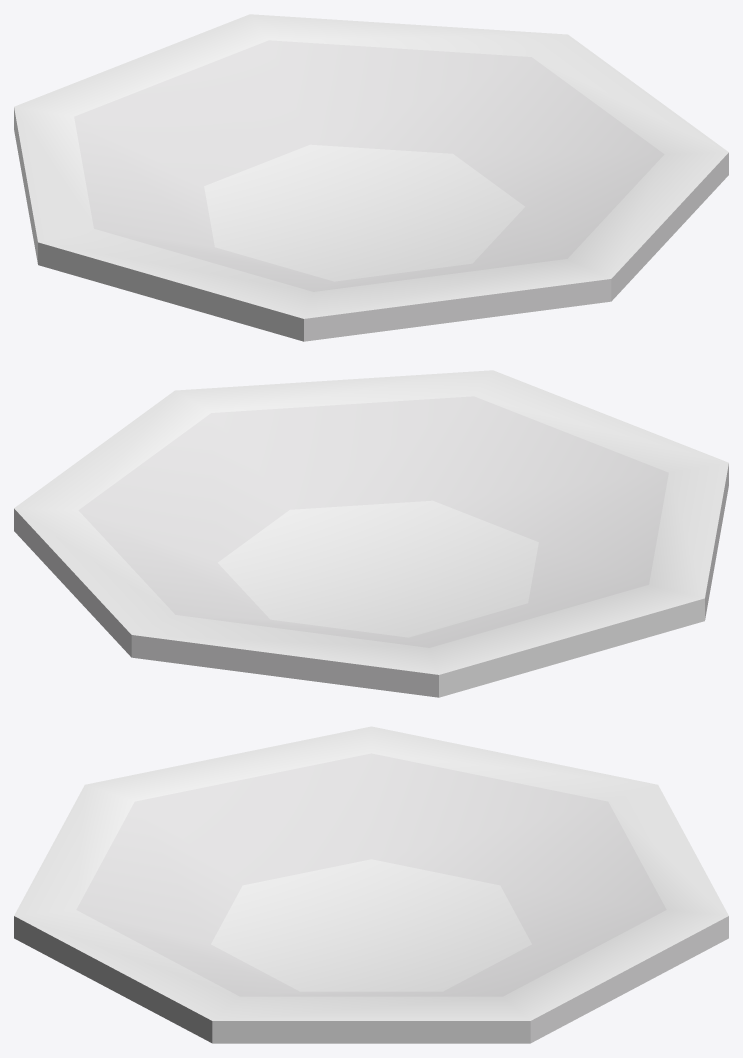
The model's file is Plate.fbx.
The picture shows the model from 3 angles, top to bottom: view 1: azimuth 30°, elevation 25°; view 2: azimuth 150°, elevation 25°; view 3: azimuth 270°, elevation 25°; orthographic projection.
Visible parts, largest first — view 1: Plate; view 2: Plate; view 3: Plate.
Boxes of the visible parts, x1,y1,x2,y2 form: Plate: (14, 14, 728, 341); Plate: (14, 370, 728, 697); Plate: (14, 726, 728, 1043).
Bounding box in the file's own units: 59.9 × 5.23 × 61.44.
